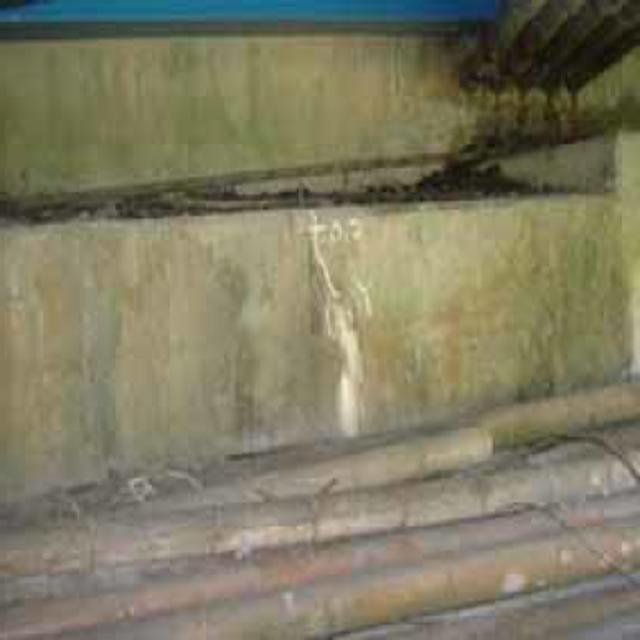freelime: (306, 219, 368, 460)
